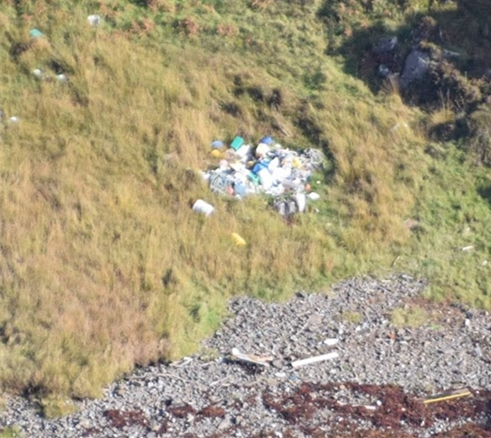scattered_barrel: (3, 9, 112, 132), (176, 192, 248, 254)
straight_bar: (415, 380, 482, 413), (282, 346, 348, 376), (223, 343, 278, 376)
together_barrel: (195, 116, 340, 217)
